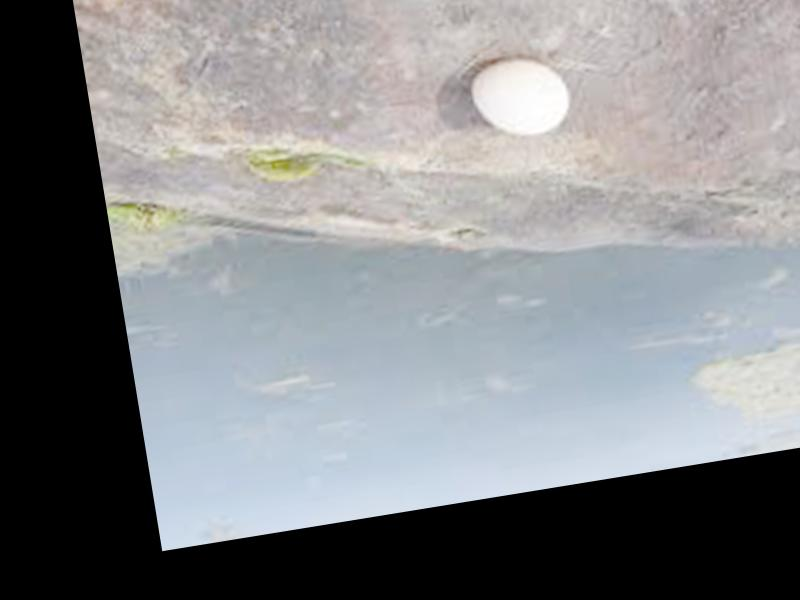Eggs: (469, 52, 579, 144)
